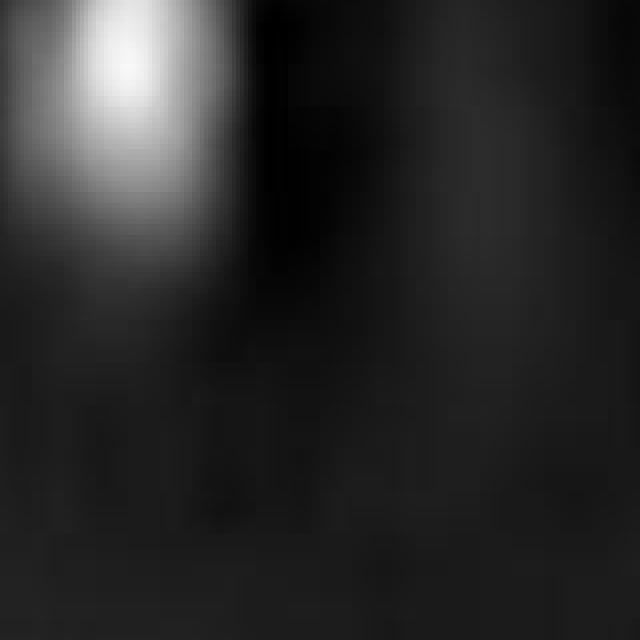person: (13, 1, 241, 321)
